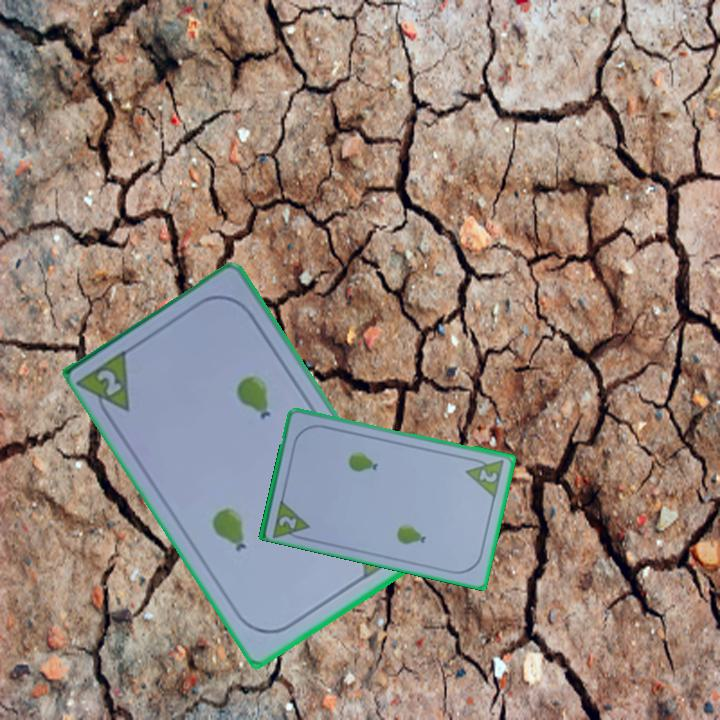2p: (93, 365, 126, 400), (475, 465, 500, 485), (275, 512, 300, 532)
